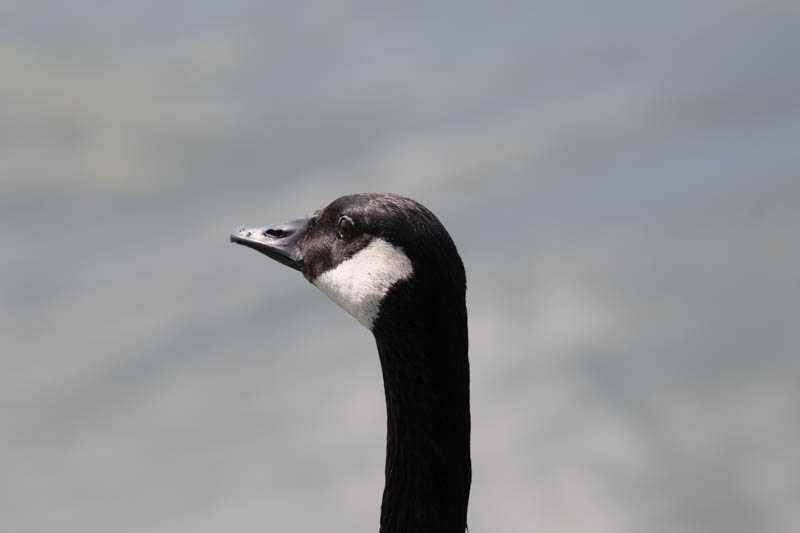goose-head: (227, 191, 468, 335)
